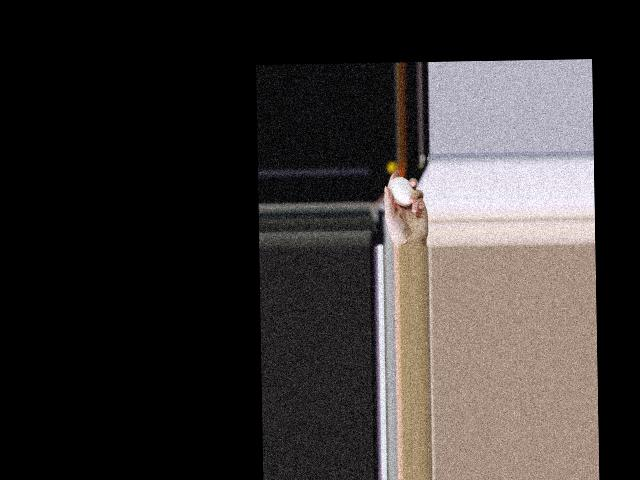egg: (389, 176, 414, 206)
